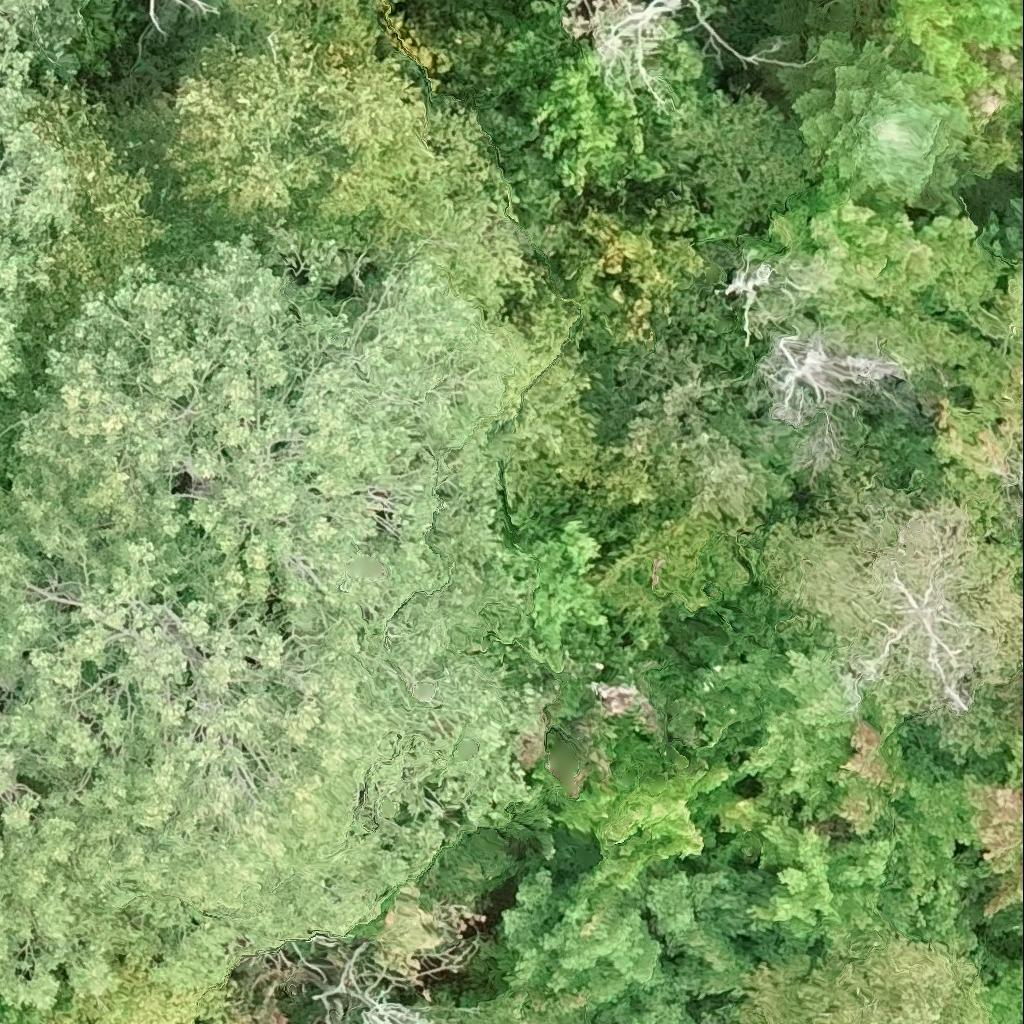crown: (0, 449, 534, 959), (15, 239, 500, 563), (501, 727, 980, 1023), (167, 0, 542, 307), (0, 684, 224, 1006), (760, 475, 1023, 728), (617, 602, 866, 797), (759, 201, 1005, 358), (23, 71, 171, 321), (487, 0, 670, 202), (518, 673, 716, 858), (0, 0, 87, 396), (786, 29, 978, 202), (558, 217, 734, 364), (928, 269, 1023, 540), (728, 929, 998, 1023), (888, 0, 1023, 170), (484, 307, 602, 492), (490, 530, 611, 701), (912, 733, 1023, 907), (666, 98, 825, 213), (560, 0, 689, 108), (758, 335, 909, 427), (47, 962, 240, 1023), (228, 966, 336, 1023), (386, 992, 547, 1023), (980, 969, 1023, 1023), (148, 0, 167, 40), (176, 0, 219, 15), (1013, 715, 1023, 737), (1016, 184, 1023, 209)
